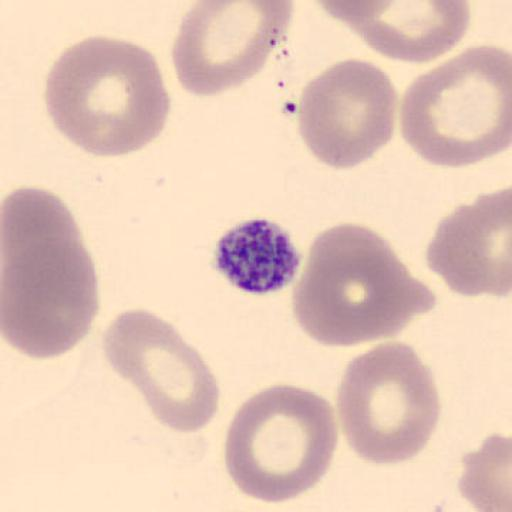Platelet: (209, 214, 303, 296)
RBC: (291, 220, 427, 348), (0, 183, 98, 359), (44, 33, 172, 159), (102, 307, 220, 435), (398, 44, 512, 169), (223, 382, 339, 504), (335, 340, 442, 467), (170, 0, 294, 97), (2, 240, 100, 360), (0, 185, 94, 310), (296, 56, 397, 170), (325, 0, 473, 65), (424, 190, 512, 298), (456, 431, 512, 512), (309, 0, 398, 25)
